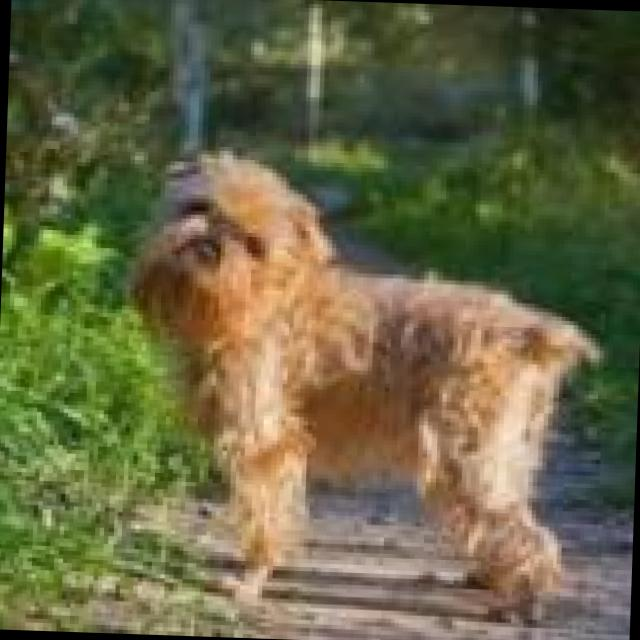Perro: (114, 139, 615, 626)
